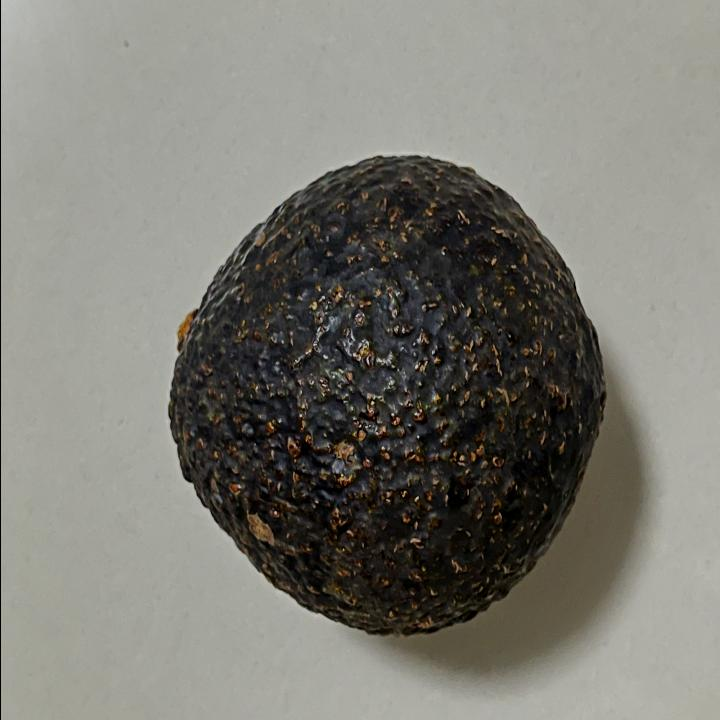Level2: (157, 148, 611, 644)
